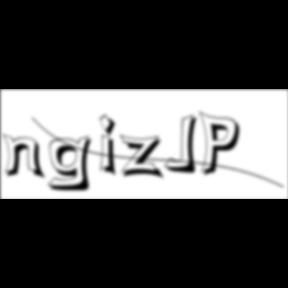J: (164, 114, 204, 176)
P: (200, 110, 246, 180)
g: (48, 134, 100, 194)
i: (99, 112, 123, 180)
n: (2, 132, 50, 181)
z: (120, 134, 168, 182)
